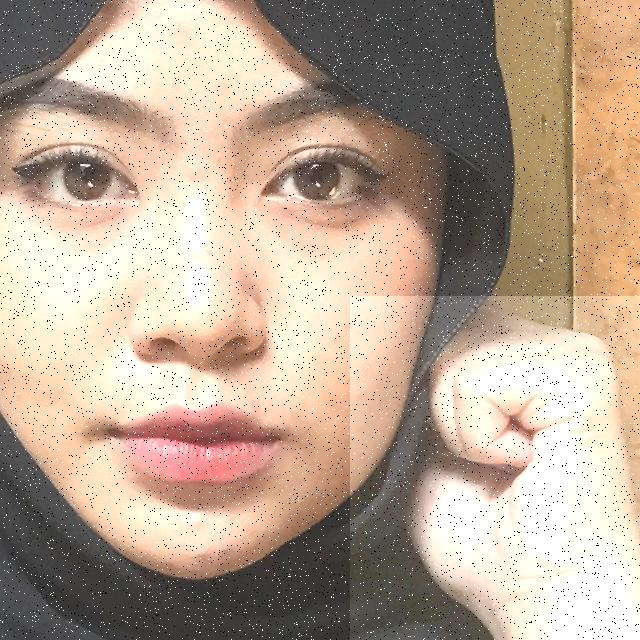ibu: (350, 296, 640, 640)
